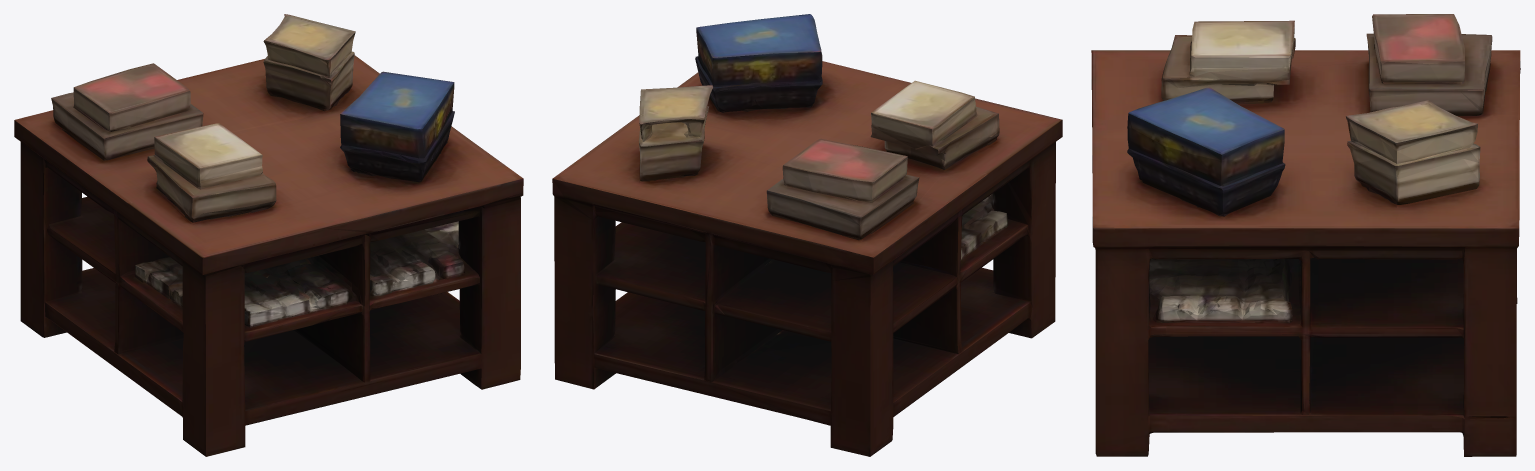
Rendered from table_display_wood_books.glb.
3 renders of one model, left to right at view 1: azimuth 30°, elevation 25°; view 2: azimuth 150°, elevation 25°; view 3: azimuth 270°, elevation 25°, orthographic. The views are drawn at different scales.
Visible parts, largest first — view 1: geometry_0; view 2: geometry_0; view 3: geometry_0.
Boxes of the visible parts, <box> form: geometry_0: <box>14,14,523,456</box>; geometry_0: <box>552,14,1062,456</box>; geometry_0: <box>1091,14,1520,456</box>.
Bounding box in the file's own units: 0.4736 × 0.3677 × 0.4807.
1 material, 1 textured.
